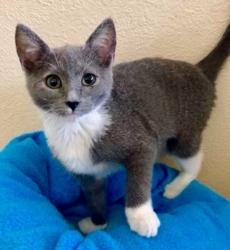rblue: (12, 14, 134, 132)
